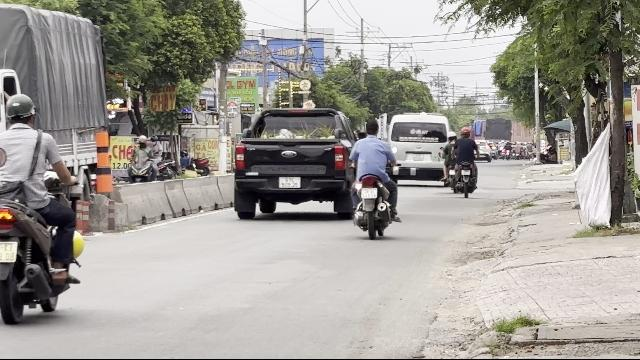helmet: (2, 93, 38, 128), (198, 88, 216, 108)
licenseplate: (361, 188, 377, 198)
motorcyclist: (0, 92, 86, 323), (348, 119, 402, 238)
nohelmet: (364, 120, 380, 136)
